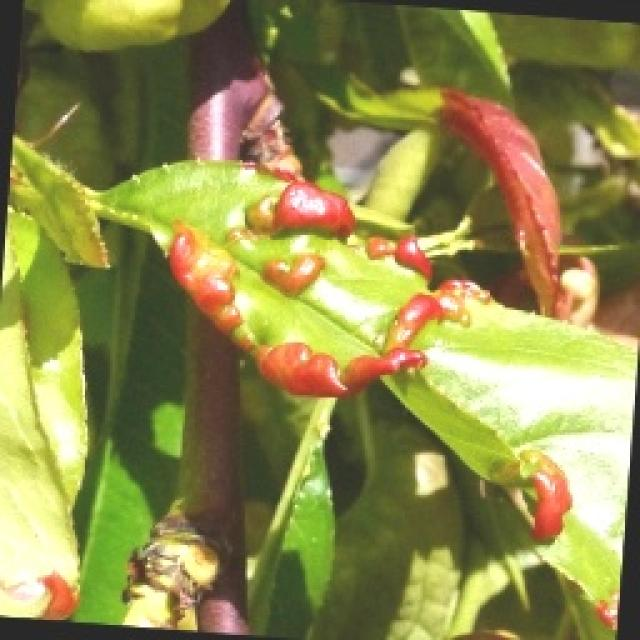peach_leaf_curl: (113, 153, 412, 412)
